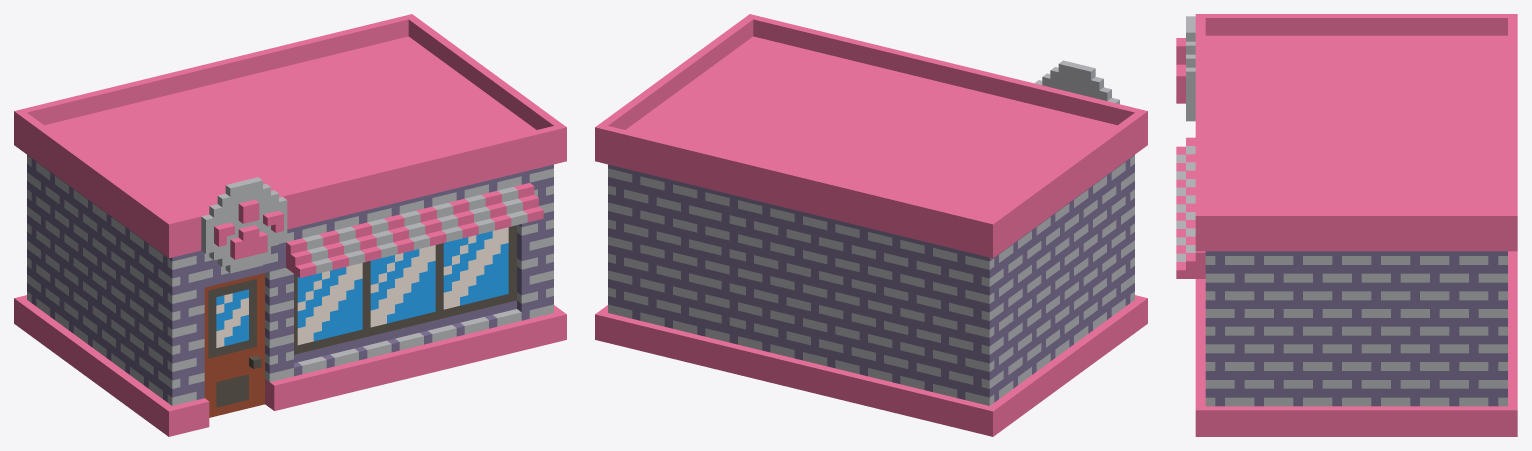
The model's file is petshop_a.obj.
3 views of the same model, side by side, from view 1: azimuth 30°, elevation 25°; view 2: azimuth 150°, elevation 25°; view 3: azimuth 270°, elevation 25° (orthographic). The views are drawn at different scales.
Size of the model in its own units: 4.9 by 2.8 by 3.5.
Materials: 1 (1 with a texture image).
